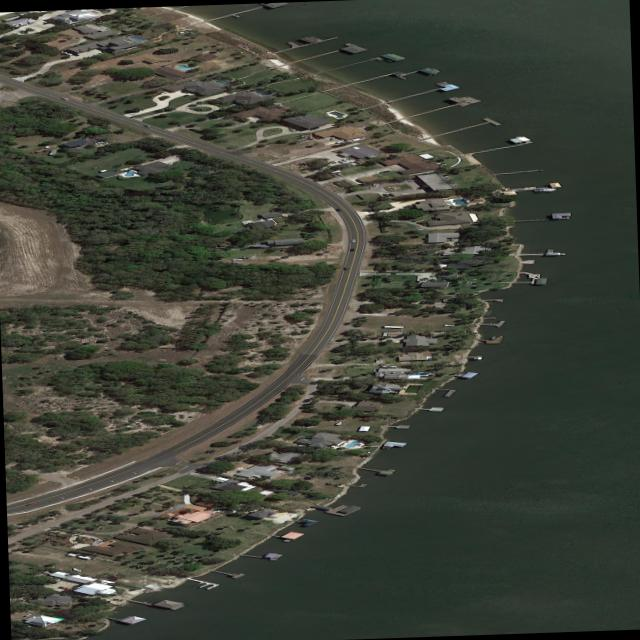ship: (533, 186, 557, 191), (347, 136, 365, 141), (71, 566, 82, 570), (379, 364, 398, 366), (491, 335, 498, 338), (444, 323, 454, 325)
small-vehicle: (86, 540, 102, 544), (25, 500, 38, 504), (335, 138, 345, 142), (93, 140, 105, 143), (251, 118, 263, 121), (98, 141, 110, 144), (407, 178, 418, 181), (379, 169, 390, 172), (142, 123, 152, 126), (161, 504, 171, 507), (320, 156, 330, 159), (82, 54, 92, 57), (60, 96, 70, 99), (453, 241, 463, 244), (335, 207, 342, 211), (23, 612, 32, 615), (90, 536, 99, 539), (340, 157, 349, 160), (352, 160, 361, 163), (381, 192, 390, 195), (337, 159, 345, 162), (328, 136, 335, 139), (387, 192, 394, 195), (297, 443, 307, 445), (376, 269, 386, 271), (336, 397, 346, 399), (61, 586, 70, 588), (349, 247, 355, 250), (345, 265, 349, 269), (351, 238, 356, 241), (375, 358, 380, 361), (450, 237, 455, 240), (238, 256, 249, 257), (345, 377, 353, 378)
